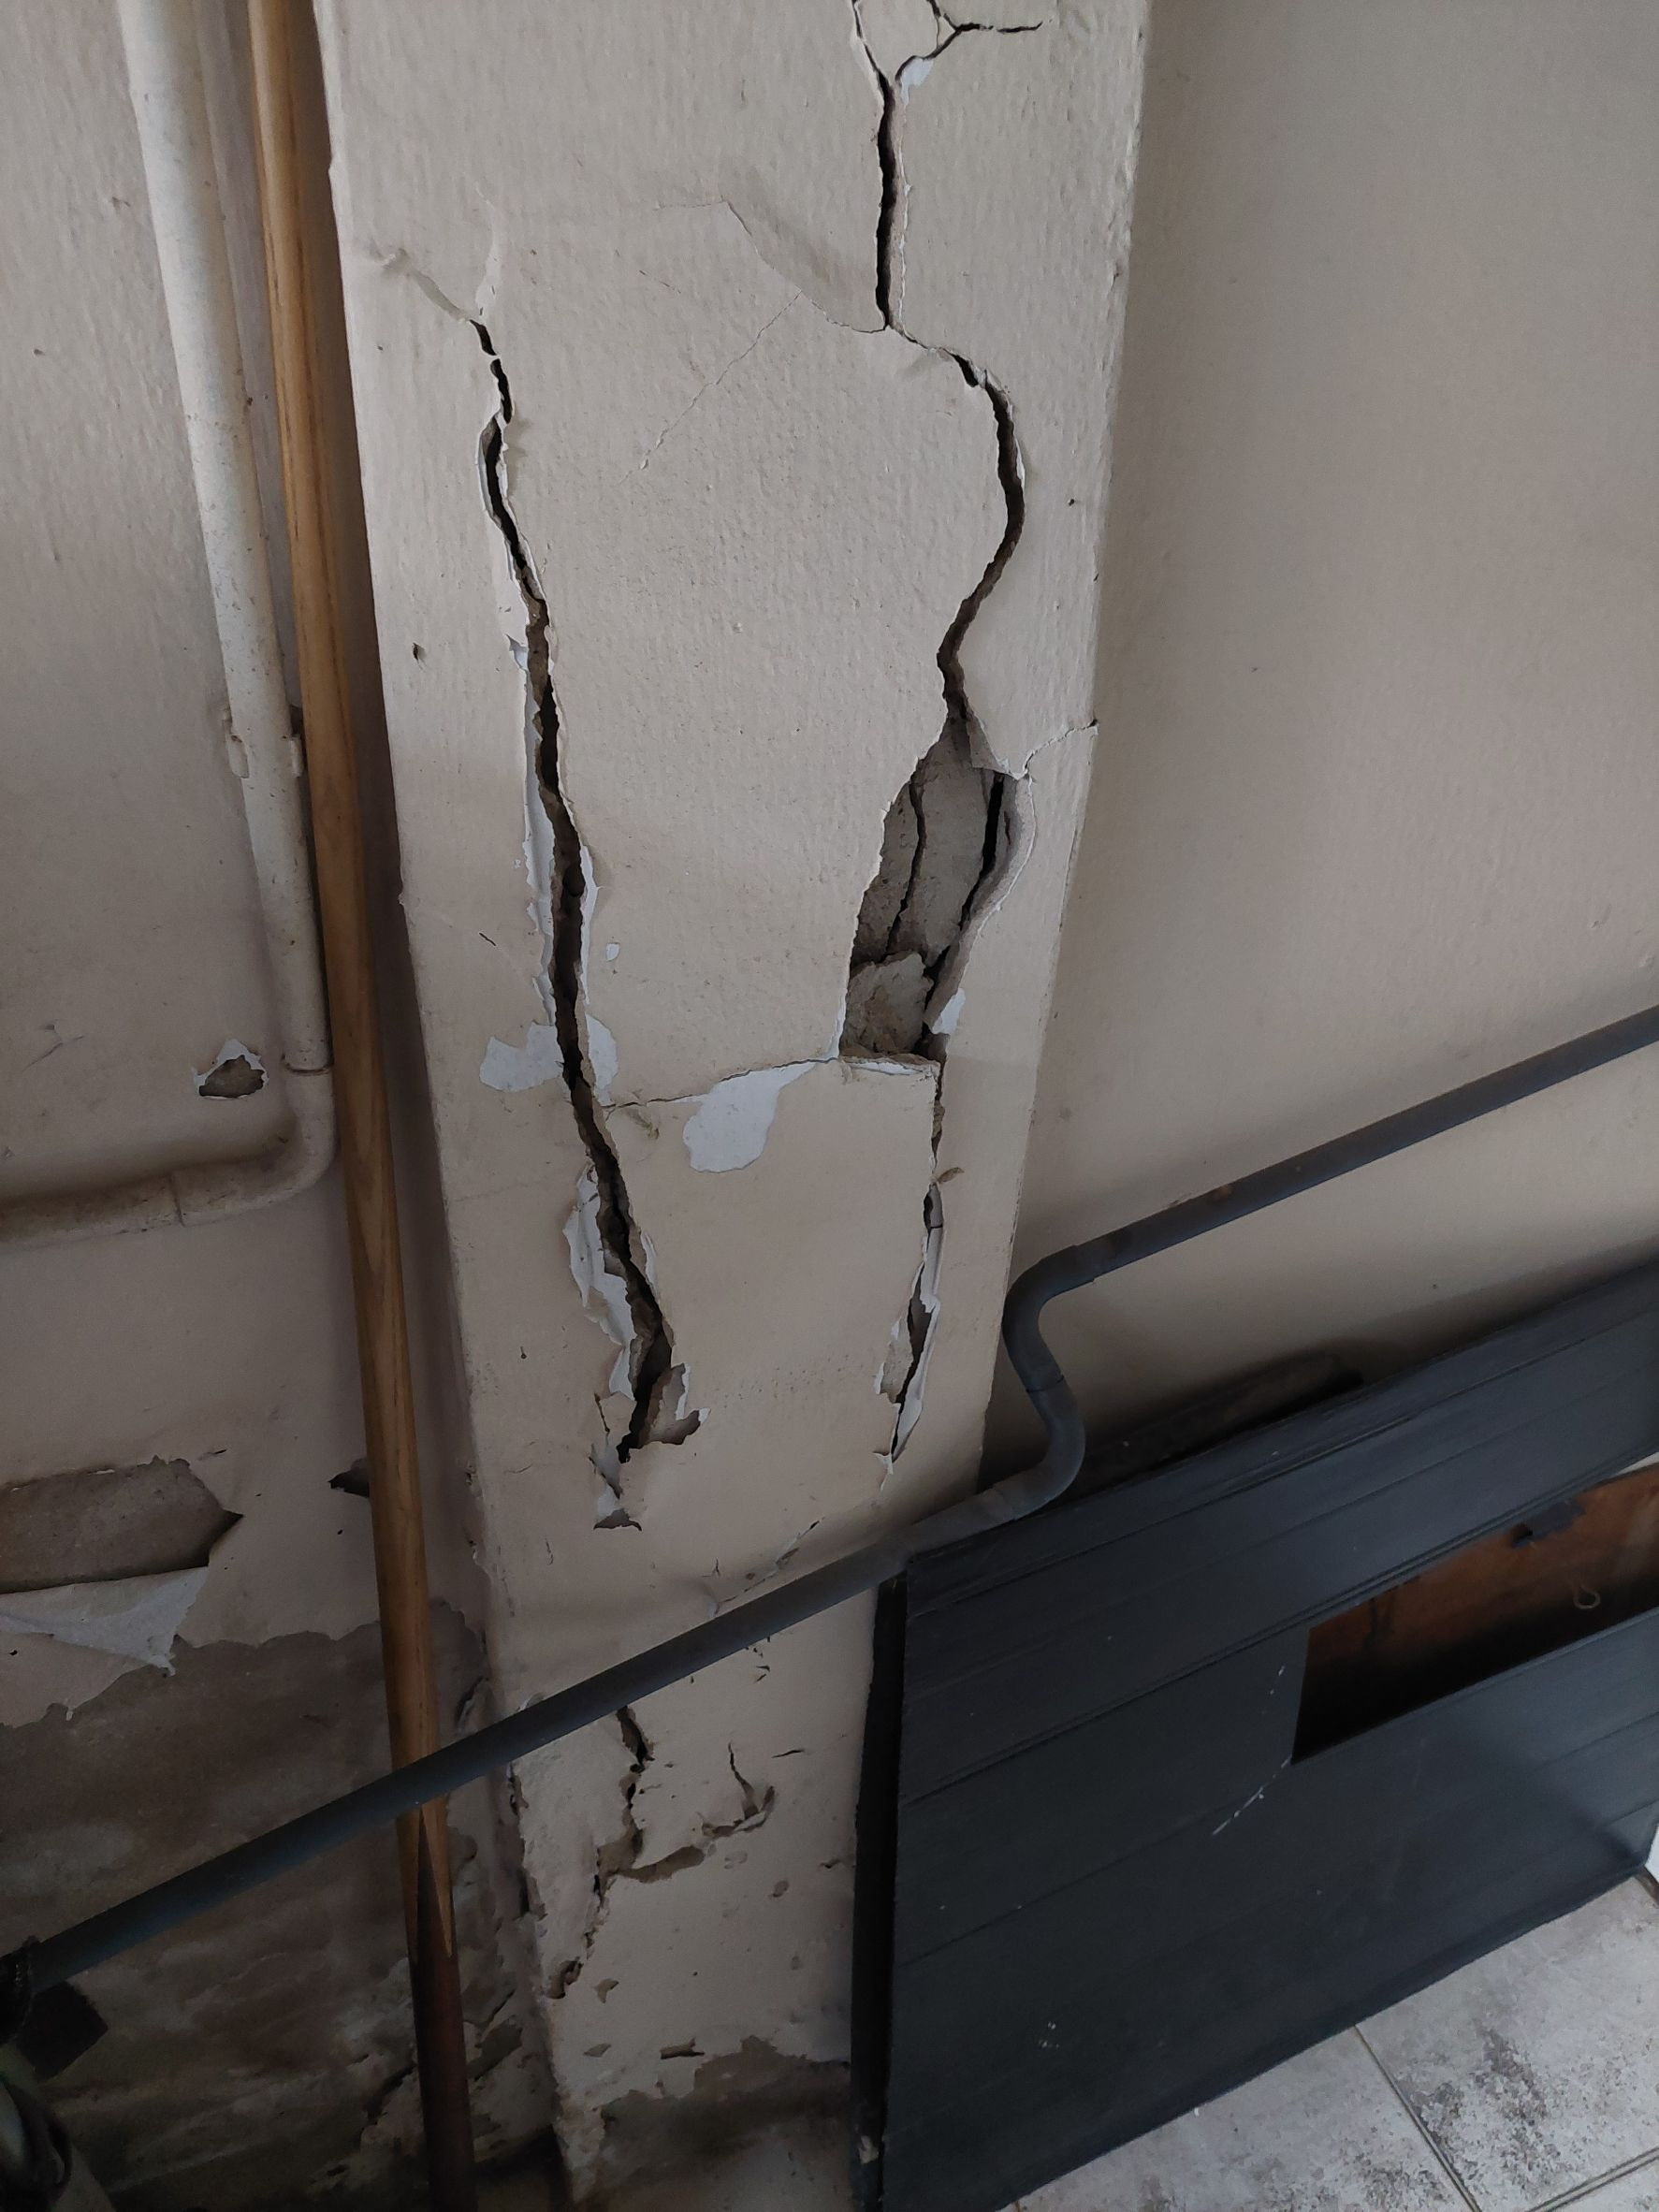High: (369, 5, 1082, 2031)
